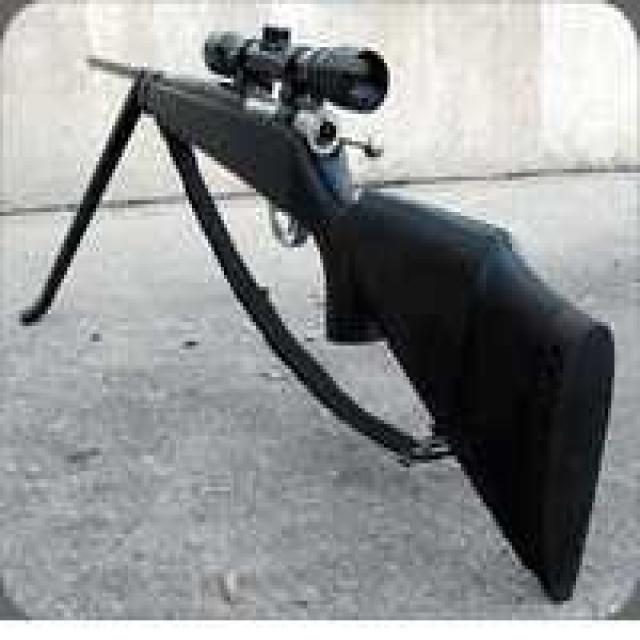RifleTel: (77, 30, 622, 608)
